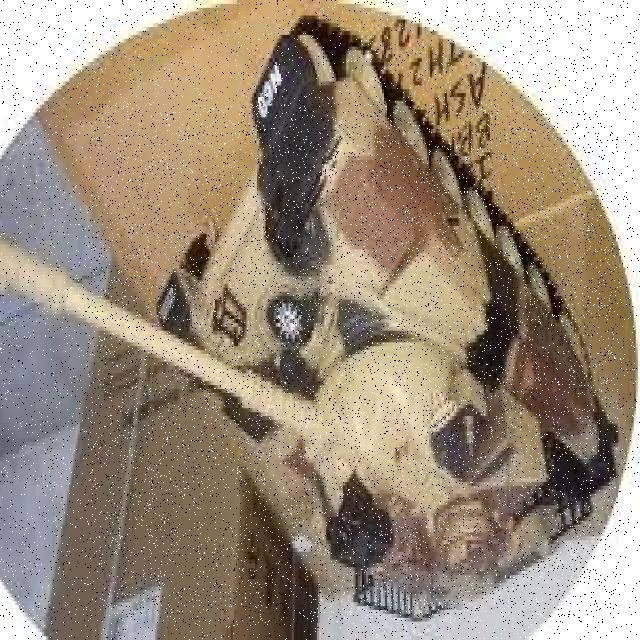MIL_MBT: (88, 104, 618, 622)
